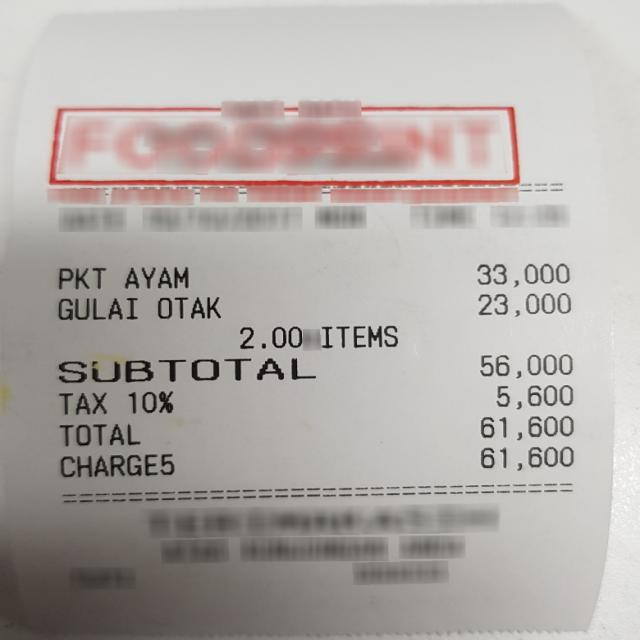text: (58, 356, 314, 382), (57, 452, 172, 477), (479, 414, 573, 440), (477, 291, 569, 316), (479, 353, 571, 378), (479, 446, 572, 470), (477, 263, 568, 286), (57, 421, 138, 446), (494, 383, 571, 409), (320, 323, 399, 348), (55, 297, 135, 319), (236, 325, 303, 349), (124, 266, 187, 288), (157, 296, 220, 318), (57, 391, 105, 414), (57, 266, 104, 288), (126, 390, 171, 412)
